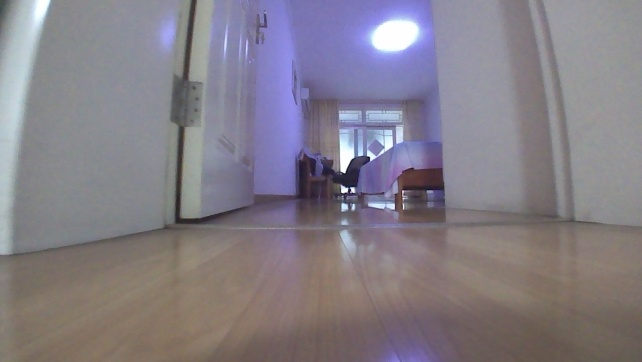bed1: (352, 138, 444, 205)
door_anno: (0, 0, 270, 257)
